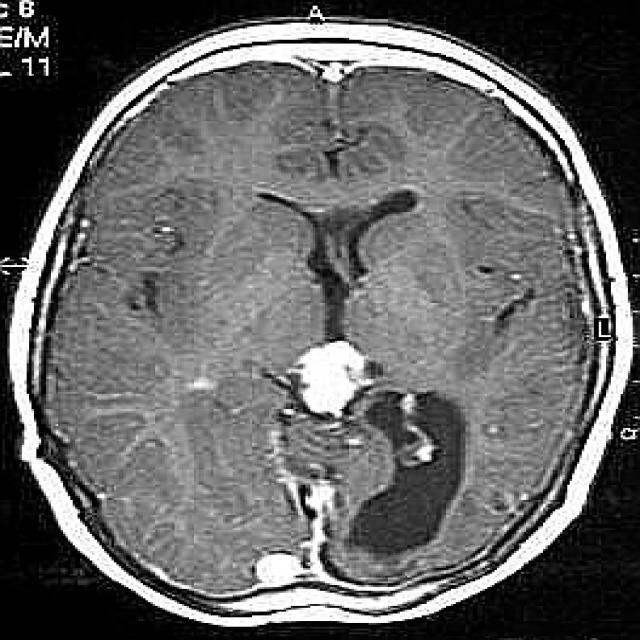Tumor-Cell: (246, 319, 394, 426), (234, 524, 322, 601)
